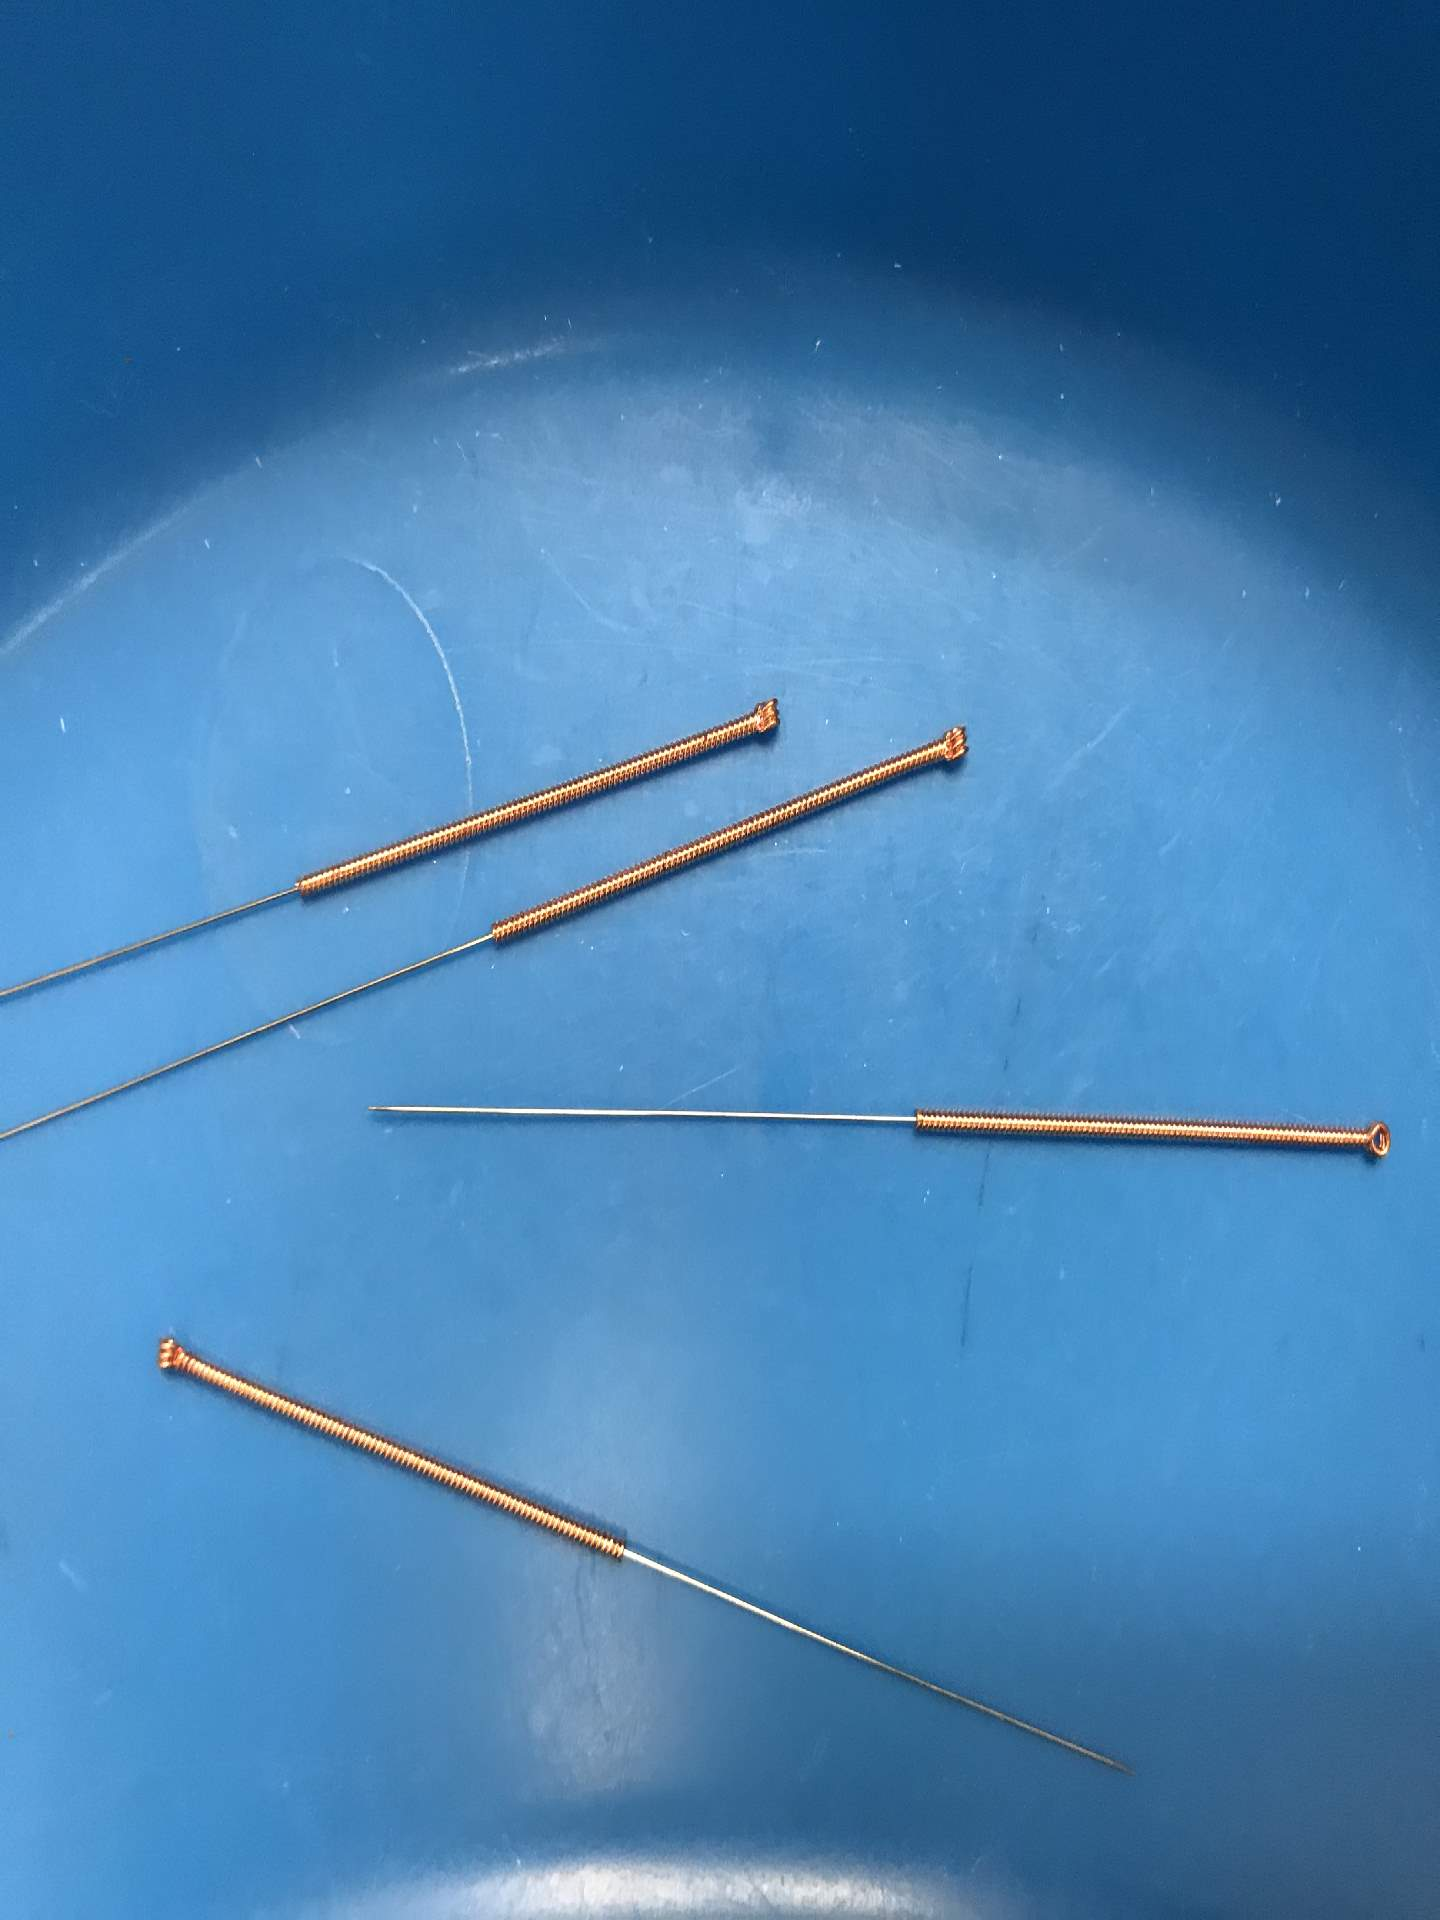needle: (911, 714, 989, 779), (726, 683, 800, 751), (139, 1323, 206, 1391), (1342, 1110, 1404, 1172)
